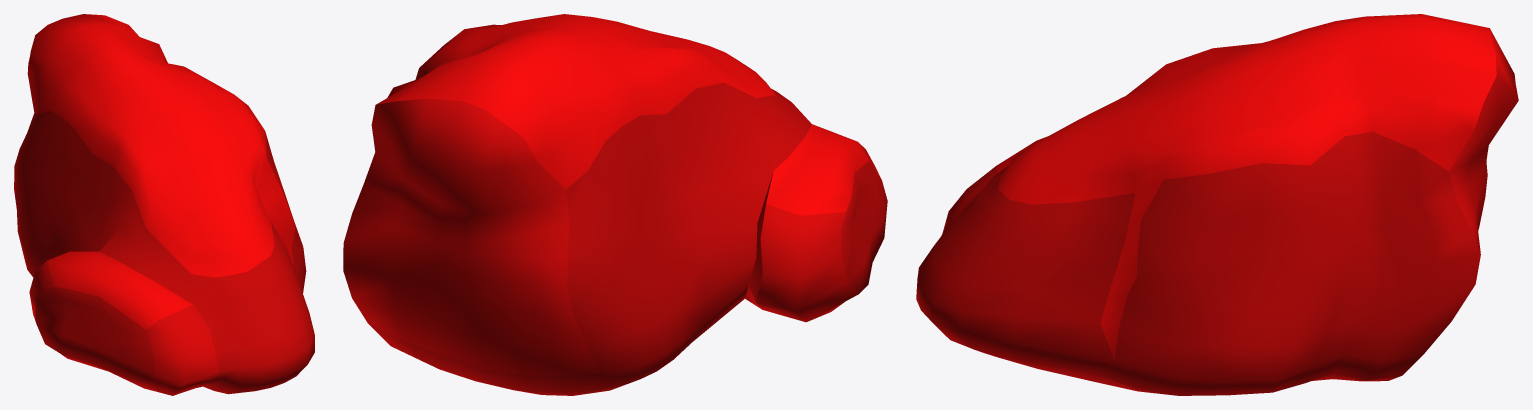
Rendered from geology-rocks-whiterock_v3.fbx.
The picture shows the model from 3 angles, left to right: view 1: azimuth 30°, elevation 25°; view 2: azimuth 150°, elevation 25°; view 3: azimuth 270°, elevation 25°; orthographic projection. The views are drawn at different scales.
Parts seen in each view (by area): view 1: WhiteRock_v3; view 2: WhiteRock_v3; view 3: WhiteRock_v3.
Part boxes in pixels (bbox=[...]): WhiteRock_v3: bbox=[14, 14, 314, 395]; WhiteRock_v3: bbox=[343, 14, 887, 395]; WhiteRock_v3: bbox=[916, 14, 1518, 395].
Size of the model in its own units: 5.91 by 4.92 by 8.33.
